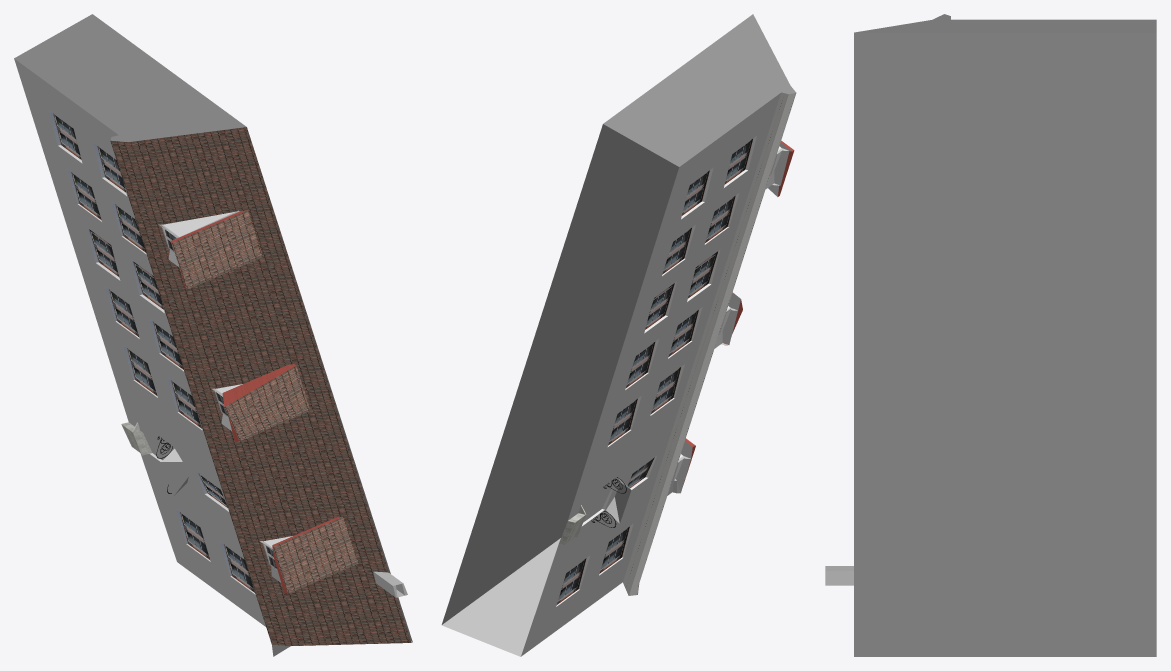
File: Myyrivahe_60-origo.obj
3 renders of one model, left to right at view 1: azimuth 30°, elevation 25°; view 2: azimuth 150°, elevation 25°; view 3: azimuth 270°, elevation 25°, orthographic. The views are drawn at different scales.
Parts seen in each view (by area): view 1: myv_60, xxx; view 2: myv_60, xxx; view 3: xxx, myv_60.
Boxes of the visible parts, x1,y1,x2,y2 form: myv_60: [14, 58, 412, 656]; xxx: [14, 14, 412, 642]; myv_60: [442, 92, 796, 656]; xxx: [441, 14, 796, 624]; xxx: [854, 14, 1156, 656]; myv_60: [825, 566, 853, 585].
Bounding box in the file's own units: 10.62 × 23 × 12.13.
